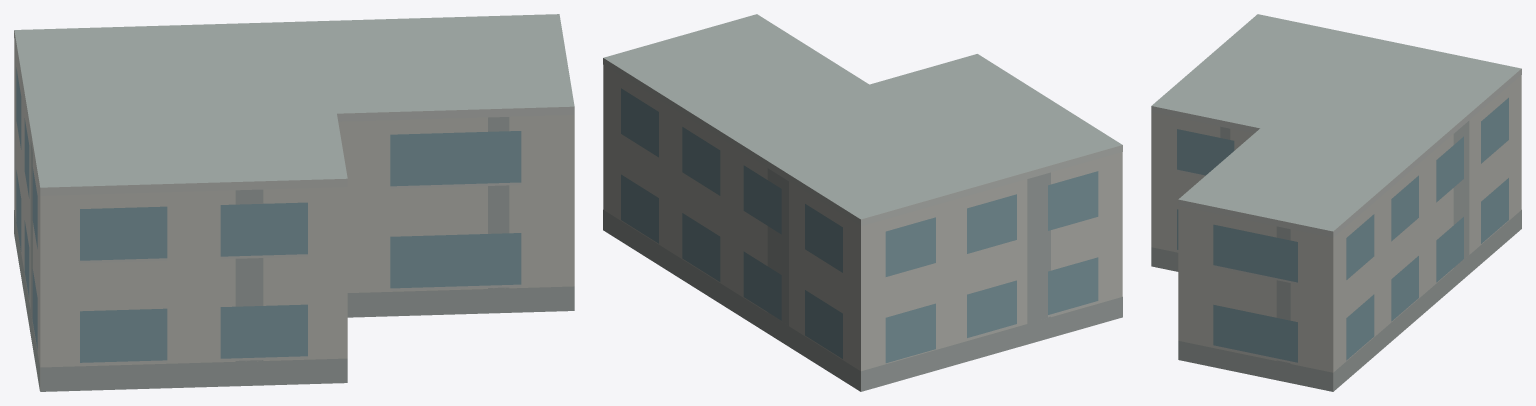
Rendered from residential-bf62023a-55be-4e08-a44a-9141dd1c7c2f.glb.
3 views of the same model, side by side, from view 1: azimuth 30°, elevation 25°; view 2: azimuth 150°, elevation 25°; view 3: azimuth 270°, elevation 25° (orthographic). The views are drawn at different scales.
Visible parts, largest first — view 1: residential-bf62023a-55be-4e08-a44a-9141dd1c7c2f.tmp; view 2: residential-bf62023a-55be-4e08-a44a-9141dd1c7c2f.tmp; view 3: residential-bf62023a-55be-4e08-a44a-9141dd1c7c2f.tmp.
Part boxes in pixels (x1,y1,x2,y2): residential-bf62023a-55be-4e08-a44a-9141dd1c7c2f.tmp: [14, 14, 574, 391]; residential-bf62023a-55be-4e08-a44a-9141dd1c7c2f.tmp: [603, 14, 1122, 391]; residential-bf62023a-55be-4e08-a44a-9141dd1c7c2f.tmp: [1151, 14, 1521, 391].
Bounding box in the file's own units: 17.46 × 6 × 12.57.
